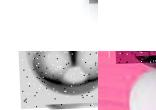ironball: (33, 51, 98, 95), (115, 51, 155, 63)
